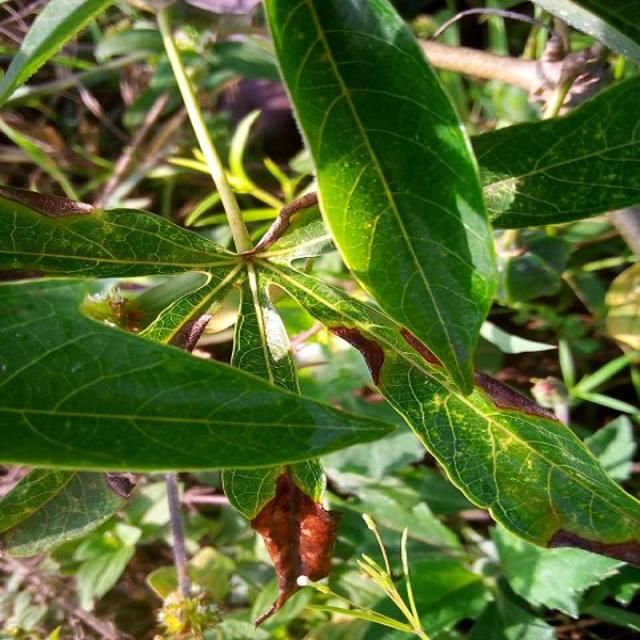cassava leaf: (262, 0, 500, 396), (0, 273, 398, 475)
